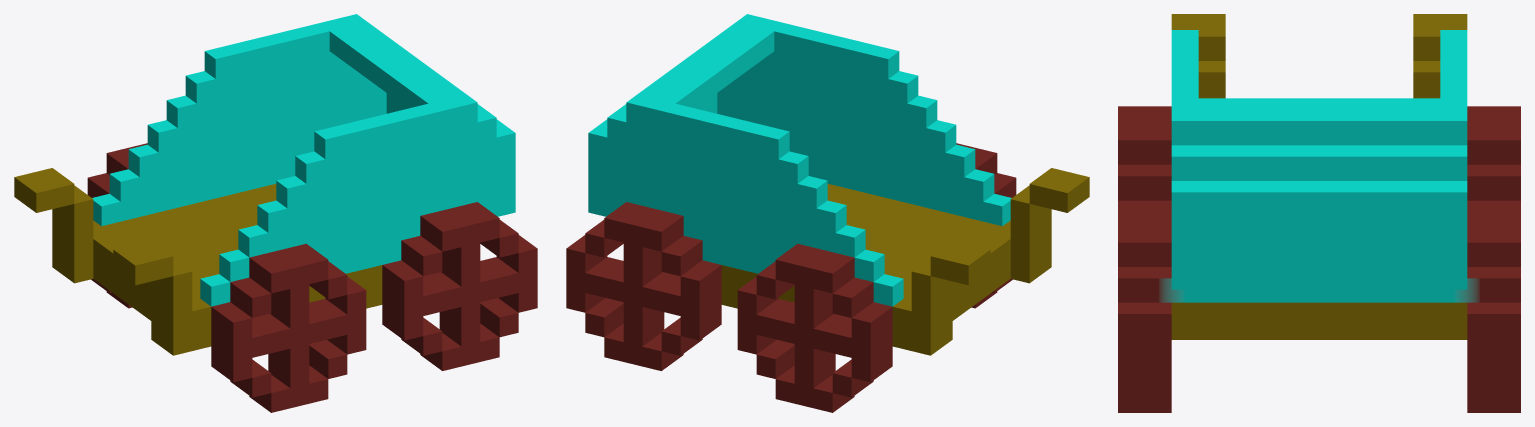
The model's file is Vehicle_19.fbx.
3 views of the same model, side by side, from view 1: azimuth 30°, elevation 25°; view 2: azimuth 150°, elevation 25°; view 3: azimuth 270°, elevation 25° (orthographic). The views are drawn at different scales.
Parts seen in each view (by area): view 1: Vehicle_19; view 2: Vehicle_19; view 3: Vehicle_19.
Part boxes in pixels (left/top/right/bottom): Vehicle_19: left=14, top=14, right=537, bottom=412; Vehicle_19: left=566, top=14, right=1089, bottom=412; Vehicle_19: left=1118, top=14, right=1520, bottom=412.
Size of the model in its own units: 20 by 12 by 15.
Materials: 1 (1 with a texture image).
